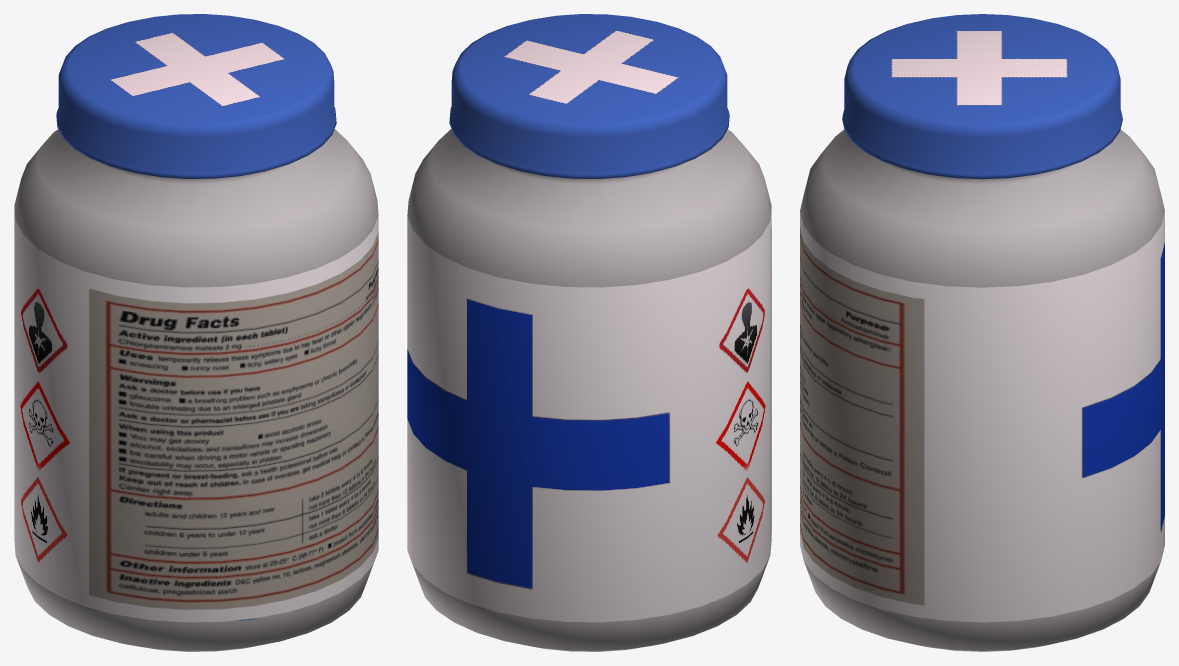
Rendered from Pills.fbx.
The picture shows the model from 3 angles, left to right: view 1: azimuth 30°, elevation 25°; view 2: azimuth 150°, elevation 25°; view 3: azimuth 270°, elevation 25°; orthographic projection.
Parts seen in each view (by area): view 1: Pills; view 2: Pills; view 3: Pills.
Boxes of the visible parts, box(x1,y1,x2,y2) form: Pills: box(14, 14, 378, 651); Pills: box(407, 14, 771, 651); Pills: box(800, 14, 1164, 651).
Size of the model in its own units: 8 by 12.68 by 8.
